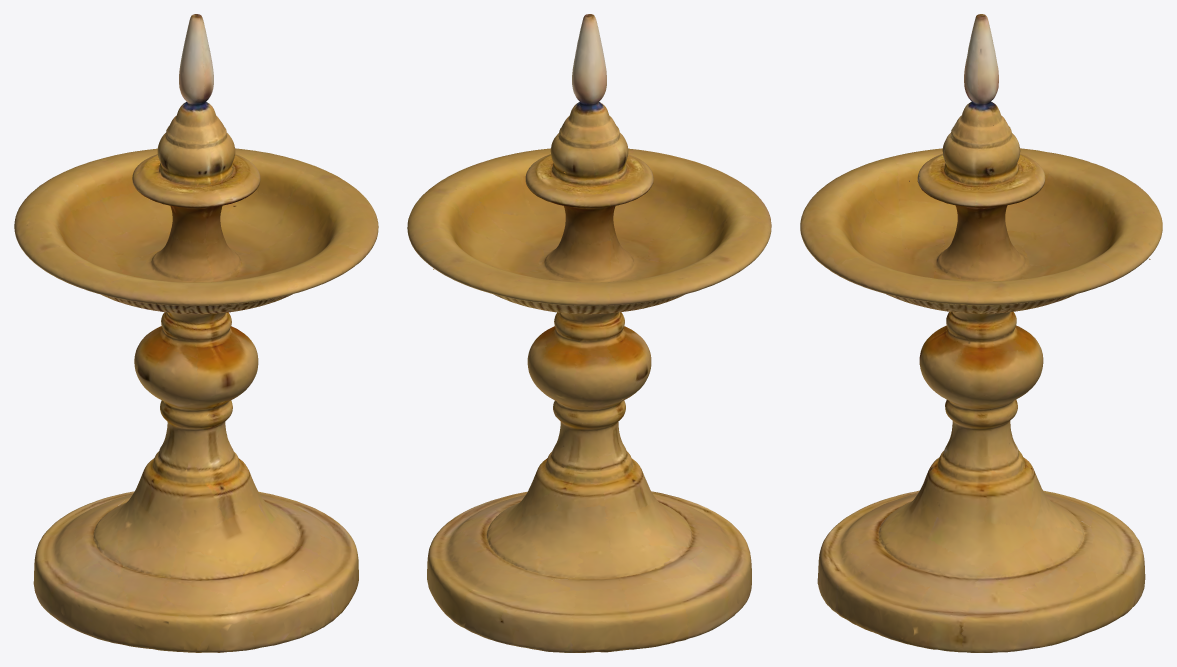
The picture shows the model from 3 angles, left to right: view 1: azimuth 30°, elevation 25°; view 2: azimuth 150°, elevation 25°; view 3: azimuth 270°, elevation 25°; orthographic projection.
Visible parts, largest first — view 1: Object_4; view 2: Object_4; view 3: Object_4.
Part boxes in pixels (left/top/right/bottom): Object_4: left=14, top=14, right=378, bottom=652; Object_4: left=407, top=14, right=771, bottom=652; Object_4: left=800, top=14, right=1162, bottom=652.
Bounding box in the file's own units: 1.1 × 1.9 × 1.1.
1 material, 1 textured.
